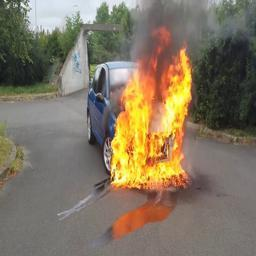fire: (111, 26, 193, 186)
